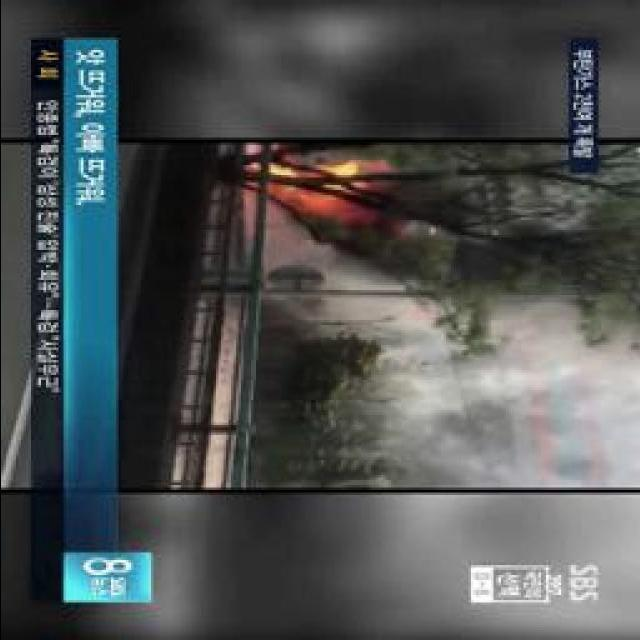Fire: (240, 158, 376, 210)
